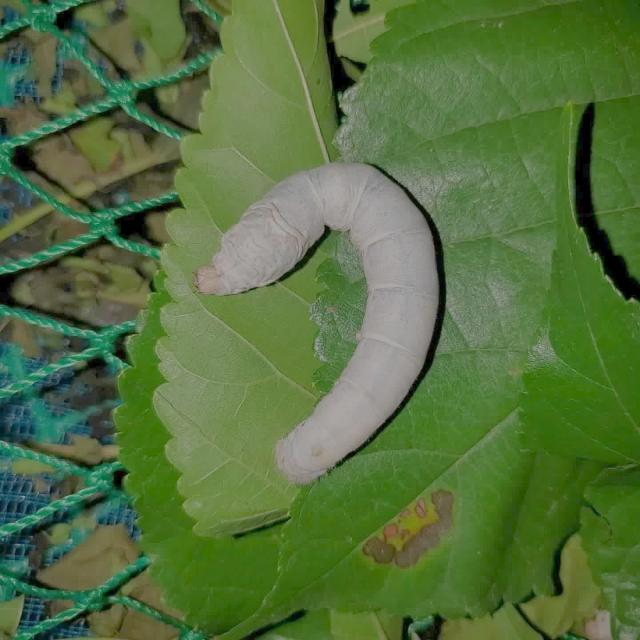Healthy: (181, 102, 455, 512)
